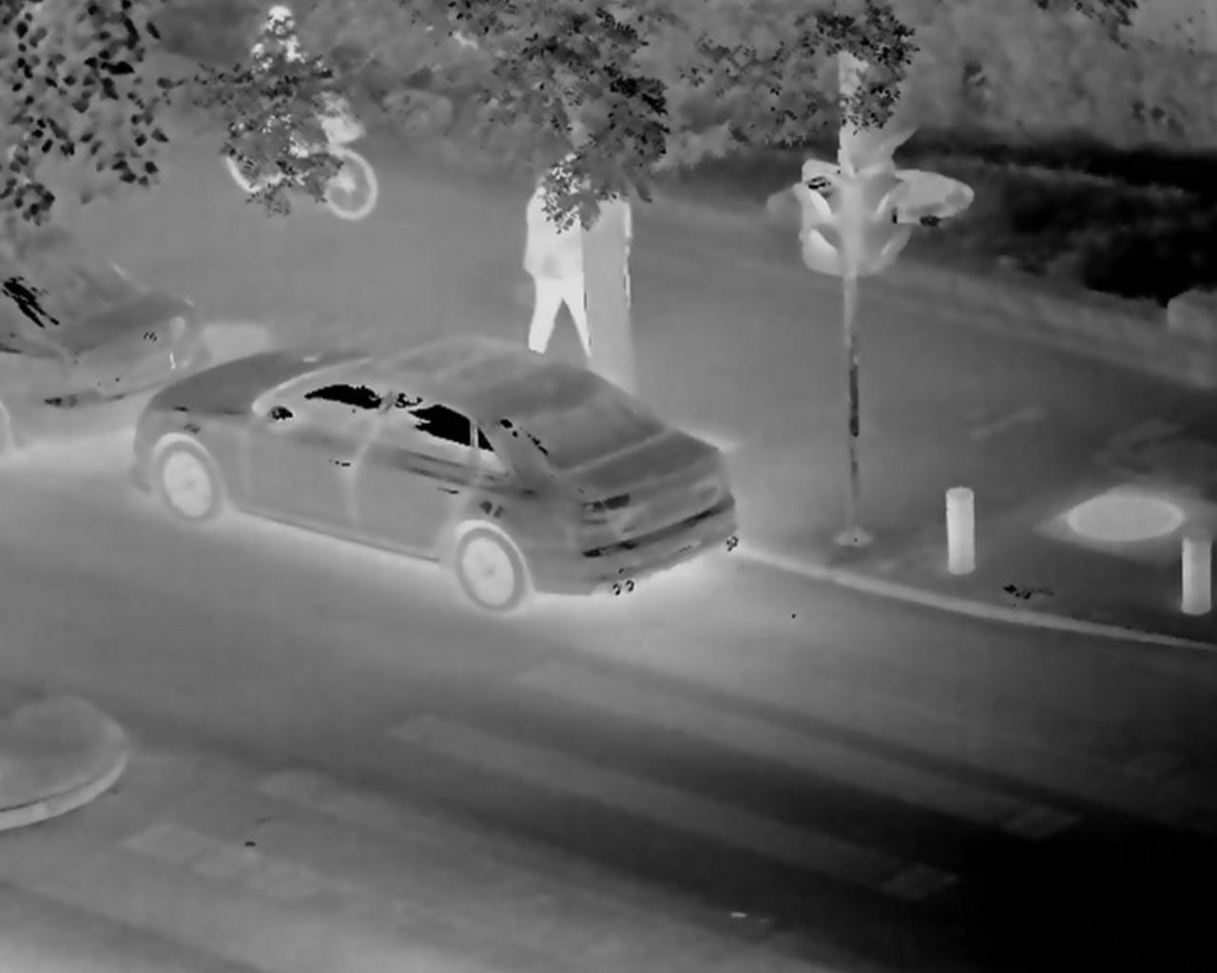person: (255, 9, 353, 215), (529, 142, 596, 370), (595, 183, 636, 382)
